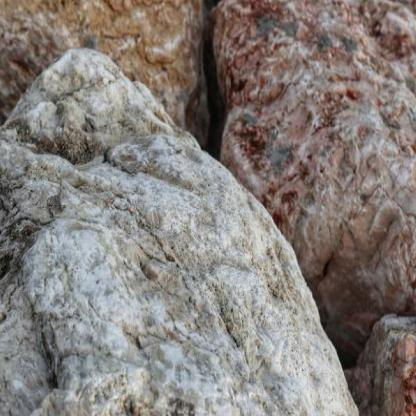Sedimentary_Limestone: (1, 42, 356, 415)
